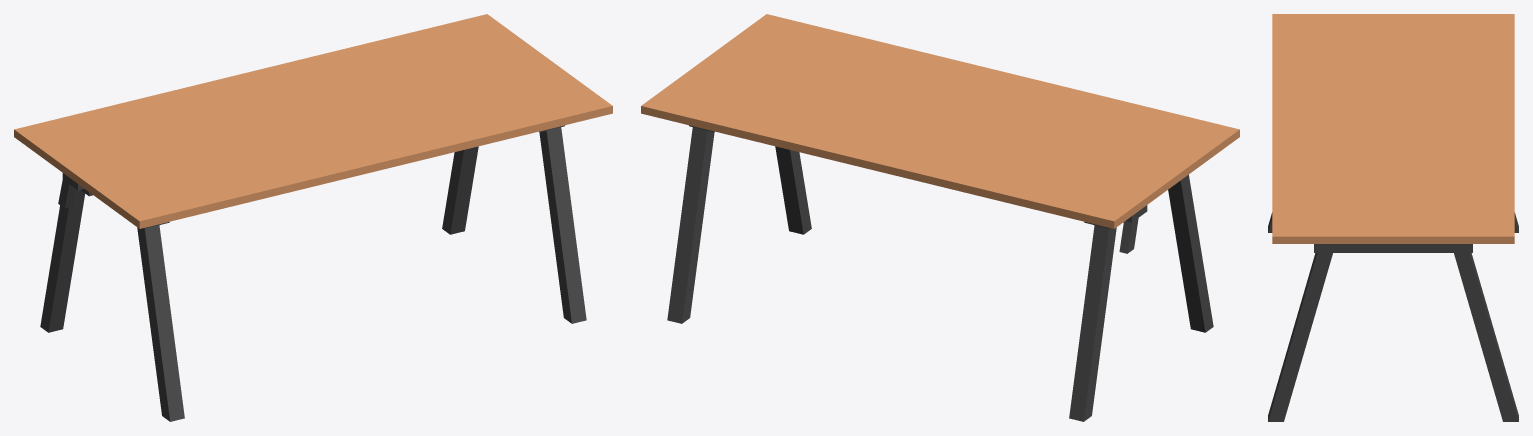
Rendered from table(1).gltf.
3 renders of one model, left to right at view 1: azimuth 30°, elevation 25°; view 2: azimuth 150°, elevation 25°; view 3: azimuth 270°, elevation 25°, orthographic. The views are drawn at different scales.
Parts seen in each view (by area): view 1: Cube, Cube.006; view 2: Cube, Cube.006; view 3: Cube, Cube.006.
Part boxes in pixels (bbox=[...]): Cube: bbox=[14, 14, 612, 228]; Cube.006: bbox=[40, 125, 586, 421]; Cube: bbox=[641, 14, 1239, 228]; Cube.006: bbox=[667, 125, 1213, 421]; Cube: bbox=[1272, 14, 1514, 243]; Cube.006: bbox=[1268, 212, 1518, 421].
Size of the model in its own units: 12.96 by 5.39 by 6.16.
